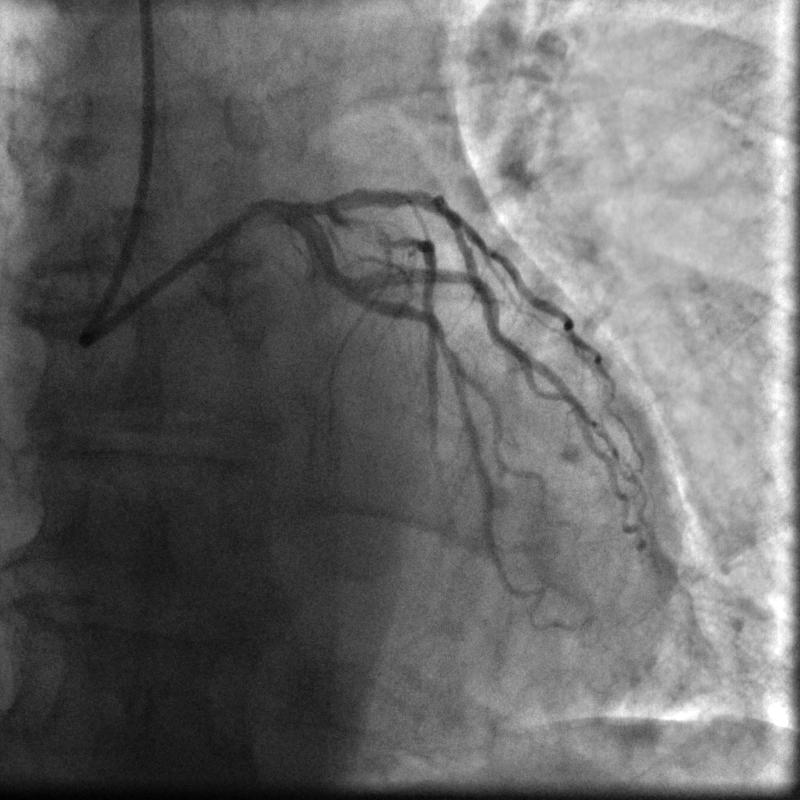Stenosis: (343, 211, 406, 253)
